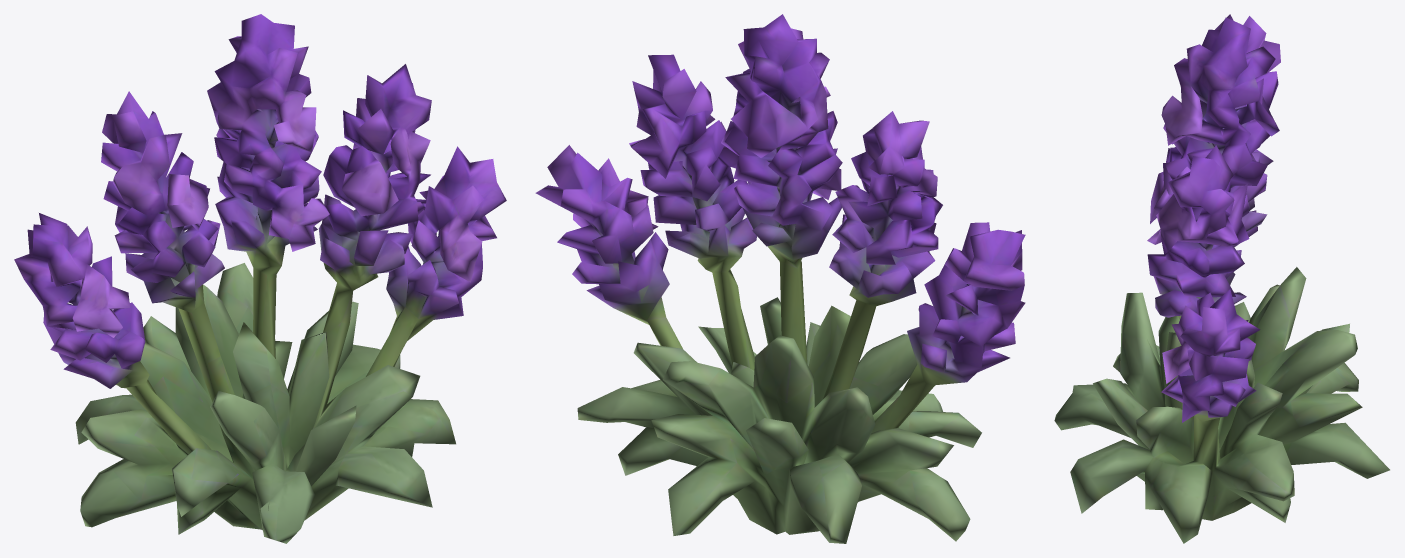
File: crop-lavender.glb
3 views of the same model, side by side, from view 1: azimuth 30°, elevation 25°; view 2: azimuth 150°, elevation 25°; view 3: azimuth 270°, elevation 25° (orthographic). The views are drawn at different scales.
Parts seen in each view (by area): view 1: tripo_node_9e6cb8ca-258f-4248-87f4-2335271a54be; view 2: tripo_node_9e6cb8ca-258f-4248-87f4-2335271a54be; view 3: tripo_node_9e6cb8ca-258f-4248-87f4-2335271a54be.
Part boxes in pixels (x1=…): tripo_node_9e6cb8ca-258f-4248-87f4-2335271a54be: x1=14, y1=14, x2=506, y2=543; tripo_node_9e6cb8ca-258f-4248-87f4-2335271a54be: x1=535, y1=14, x2=1025, y2=543; tripo_node_9e6cb8ca-258f-4248-87f4-2335271a54be: x1=1054, y1=14, x2=1389, y2=543.
Bounding box in the file's own units: 0.9907 × 1 × 0.6221.
1 material, 1 textured.
